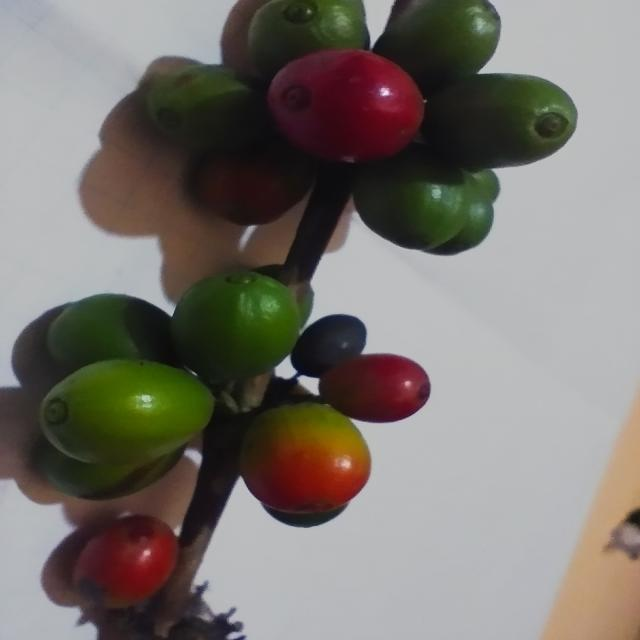Danado: (291, 314, 367, 378)
Infectado: (77, 516, 178, 609)
Sano: (264, 46, 431, 168), (38, 359, 215, 467), (239, 402, 372, 515), (171, 271, 300, 379), (318, 355, 431, 425)
